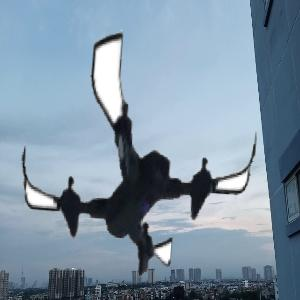drone: (13, 32, 264, 283)
